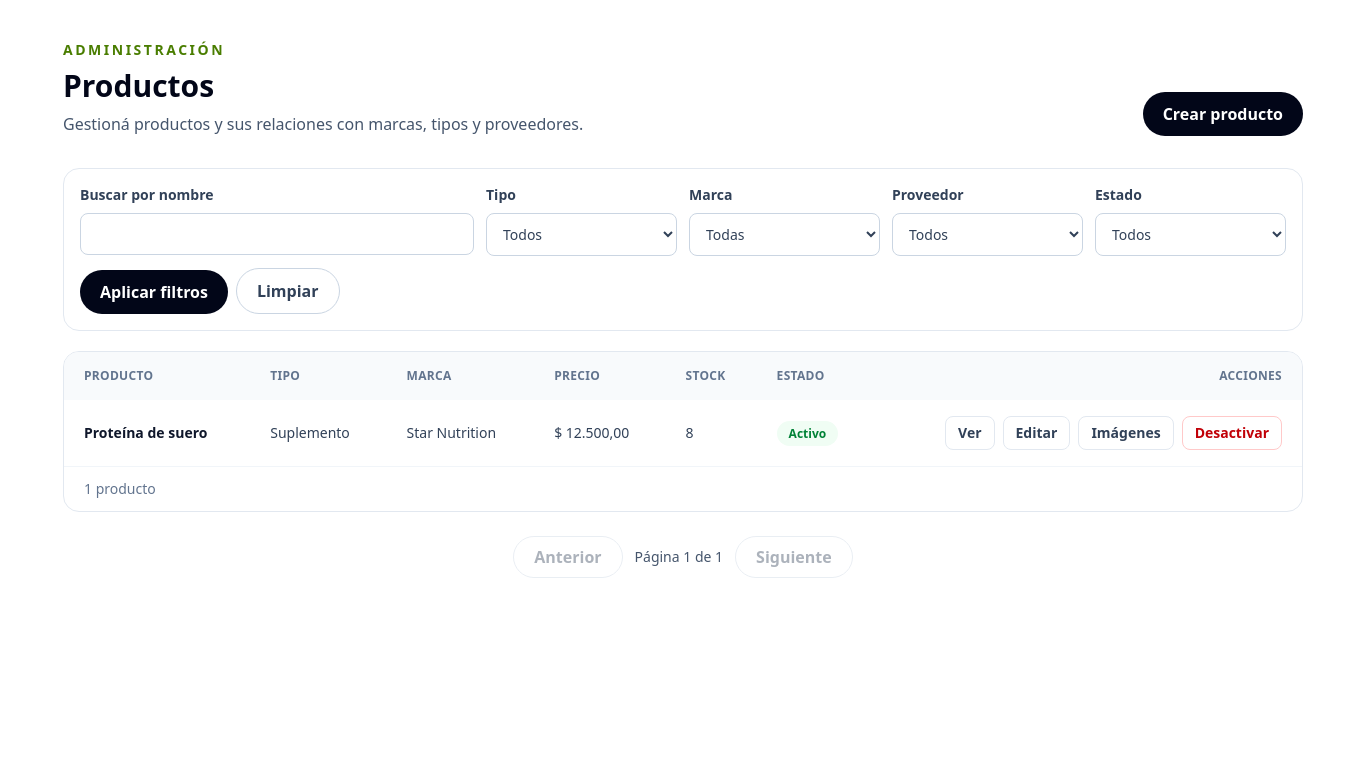
Scenario: administración de productos › edita datos y relaciones sin incluir campos de stock en el request
The image size is (1366, 768).
Expected: the text "Proteína de suero" is shown, [64,400,250,466]
Click the button "Editar".
click(1036, 433)  # box [1002,416,1070,450]
(page scrolled)
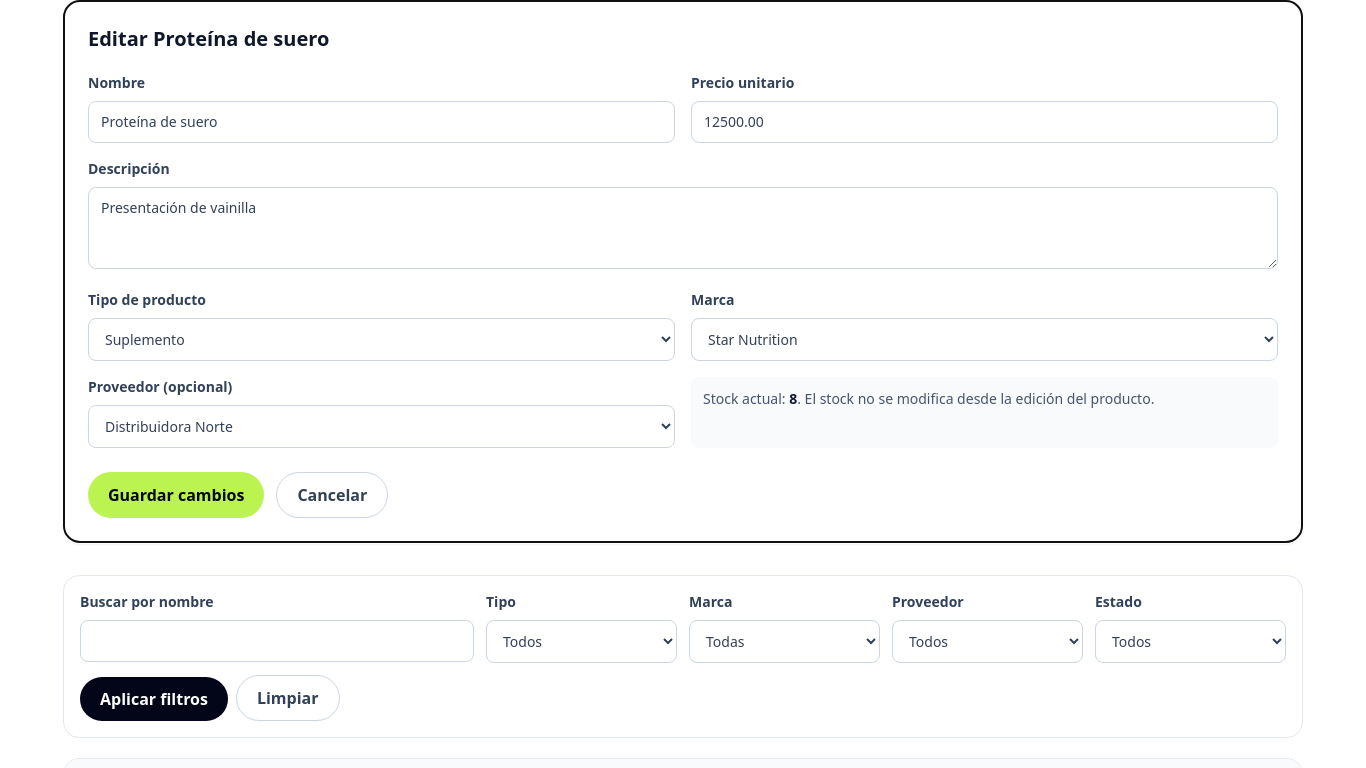
Replace the text in the number field labelled "Precio unitario" with "13000.00" at (984, 122), box [691,101,1278,143]
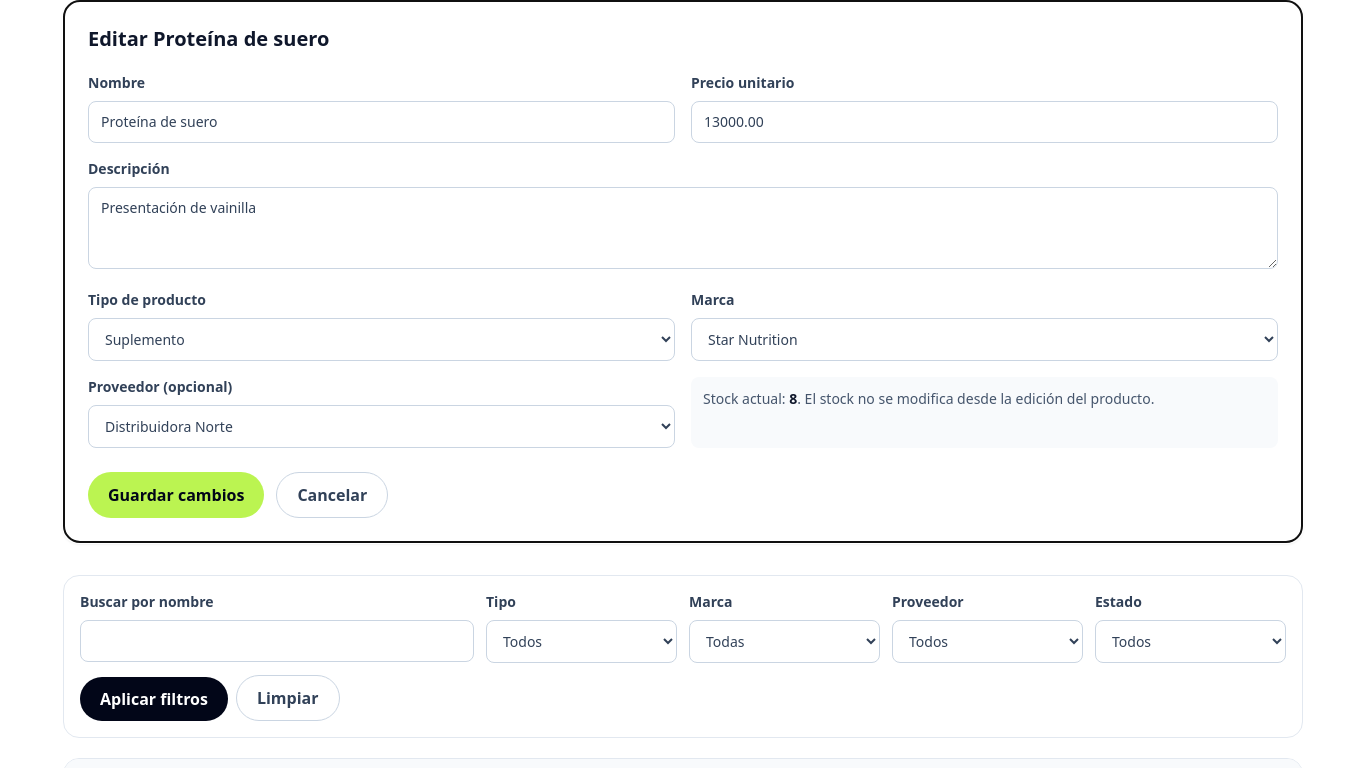
Select "Star Nutrition" in the dropdown labelled "Marca" below "Precio unitario" at (984, 340), box [691,318,1278,361]
Click the button "Guardar cambios".
click(176, 495)  # box [88,472,264,518]
(page scrolled)
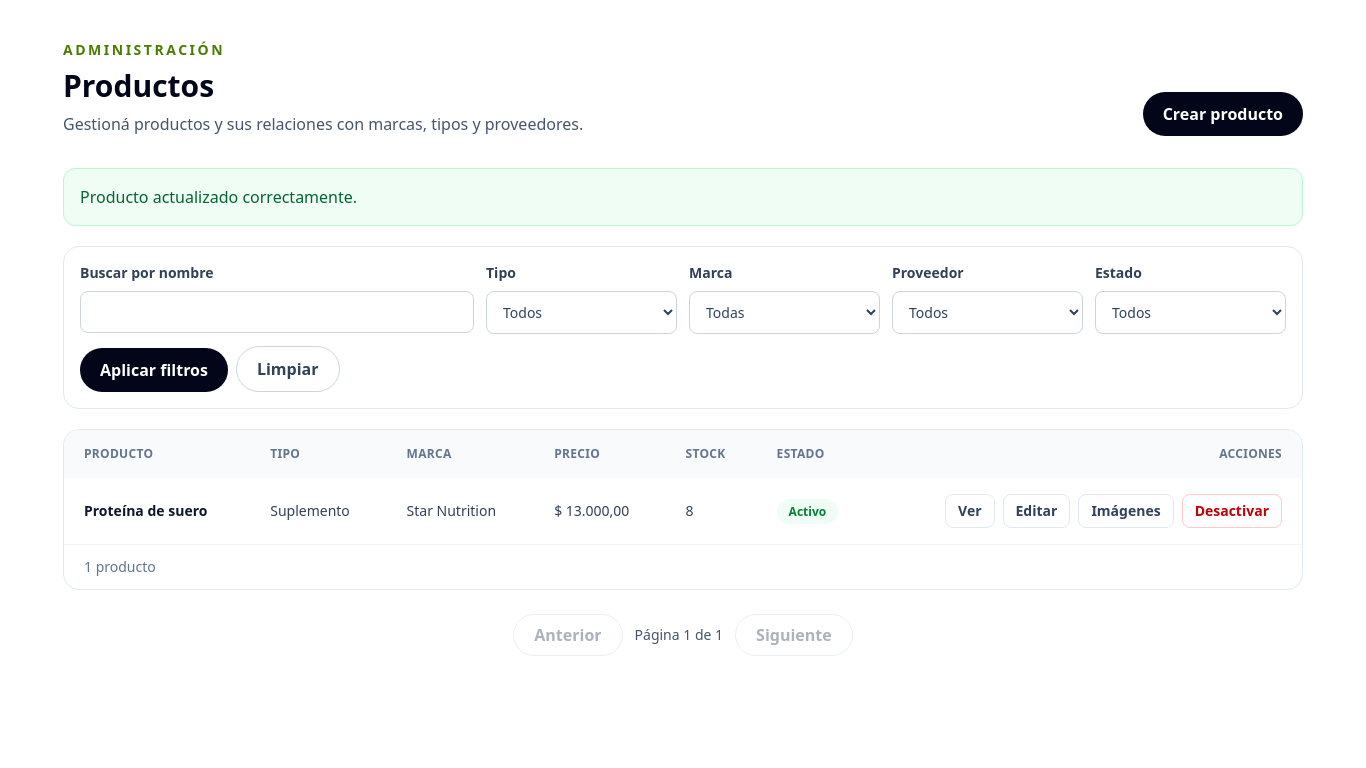
Expected: the text "Producto actualizado correctamente." is shown, [63,168,1303,226]
